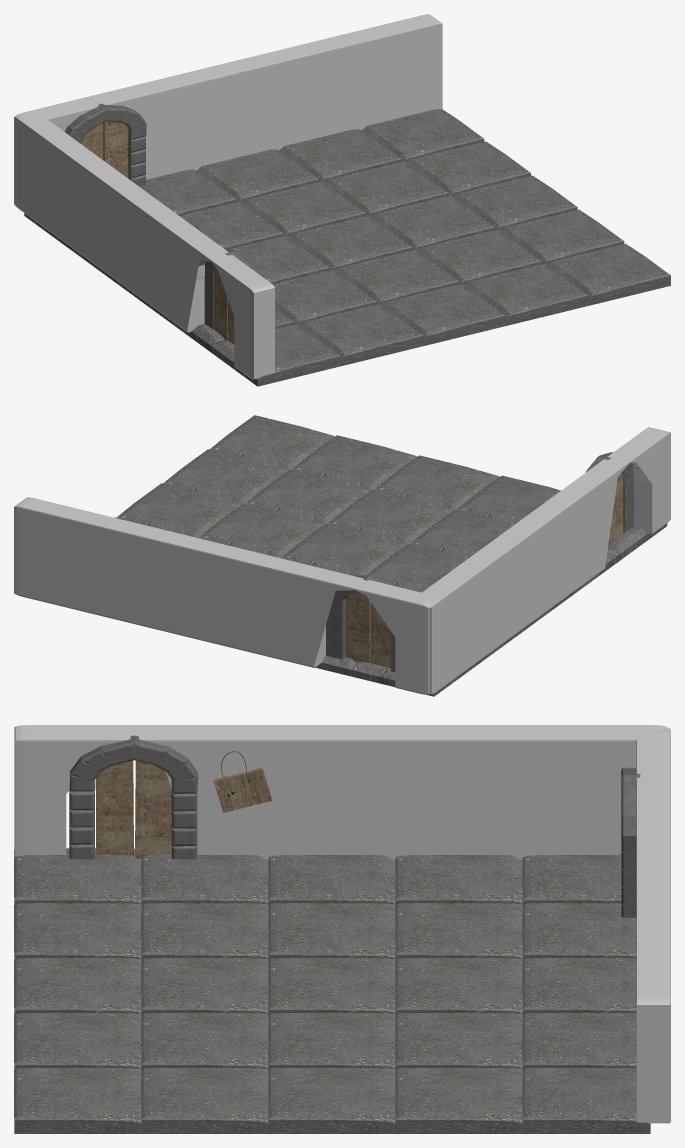
The model's file is main.fbx.
3 views of the same model, one above another, from view 1: azimuth 30°, elevation 25°; view 2: azimuth 150°, elevation 25°; view 3: azimuth 270°, elevation 25° (orthographic). The views are drawn at different scales.
Parts seen in each view (by area): view 1: Cube, Cube.001, Cube.004, Cube.003, Cube.010, Cube.008, Cube.006; view 2: Cube, Cube.001, Cube.004, Cube.010, Cube.003, Cube.009, Cube.006, Cube.007; view 3: Cube, Cube.004, Cube.001, Cube.006, Cube.007, Cube.008, Cube.003, Cube.005.
Boxes of the visible parts, box(x1,y1,x2,y2) form: Cube: box(24, 109, 670, 386); Cube.001: box(15, 14, 442, 179); Cube.004: box(14, 114, 274, 379); Cube.003: box(64, 103, 146, 186); Cube.010: box(103, 121, 128, 178); Cube.008: box(213, 267, 227, 340); Cube.006: box(204, 248, 251, 329); Cube: box(115, 415, 667, 696); Cube.001: box(14, 497, 432, 694); Cube.004: box(422, 427, 670, 694); Cube.010: box(345, 593, 370, 662); Cube.003: box(326, 575, 395, 672); Cube.009: box(370, 602, 390, 667); Cube.006: box(585, 452, 633, 532); Cube.007: box(609, 473, 623, 544); Cube: box(14, 848, 650, 1133); Cube.004: box(14, 725, 667, 860); Cube.001: box(636, 728, 670, 1123); Cube.006: box(69, 735, 198, 859); Cube.007: box(96, 760, 133, 856); Cube.008: box(135, 760, 171, 858); Cube.003: box(621, 767, 640, 917); Cube.005: box(213, 751, 271, 812).
Size of the model in its own units: 3796 by 846 by 3793.
